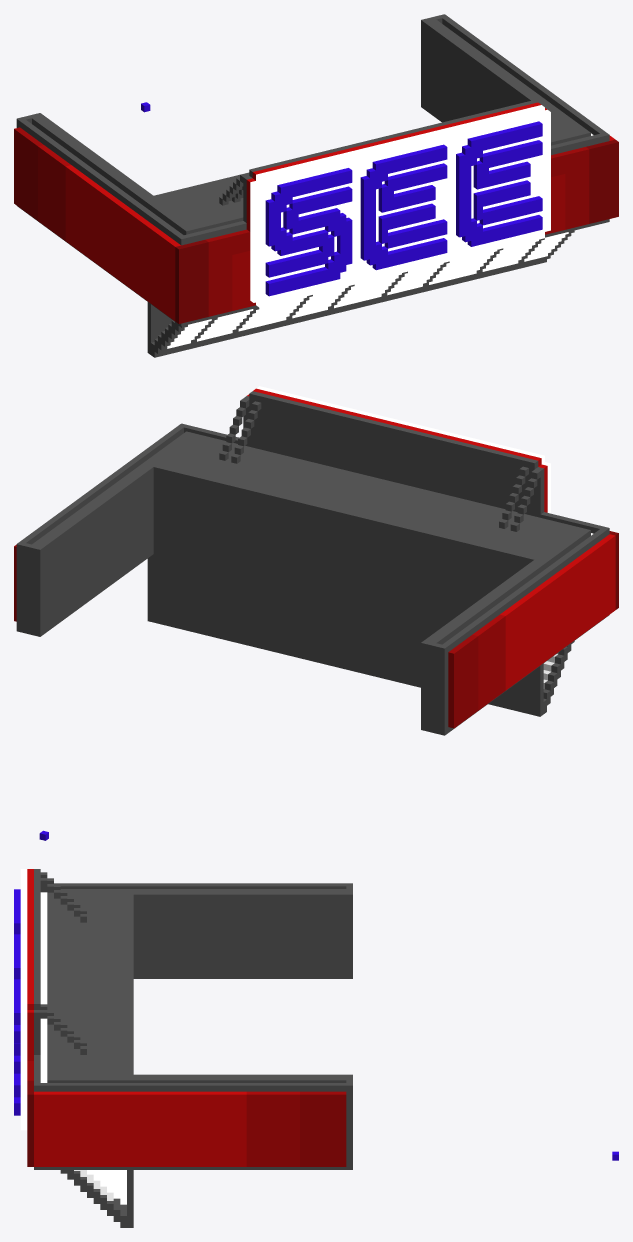
Rendered from see.glb.
The picture shows the model from 3 angles, top to bottom: view 1: azimuth 30°, elevation 25°; view 2: azimuth 150°, elevation 25°; view 3: azimuth 270°, elevation 25°; orthographic projection. The views are drawn at different scales.
Visible parts, largest first — view 1: ObjObject; view 2: ObjObject; view 3: ObjObject.
Boxes of the visible parts, <box> form: ObjObject: <box>14,14,618,357</box>; ObjObject: <box>14,386,618,840</box>; ObjObject: <box>14,869,618,1227</box>.
Size of the model in its own units: 7.4 by 3.3 by 9.1.
2 materials, 1 textured.
